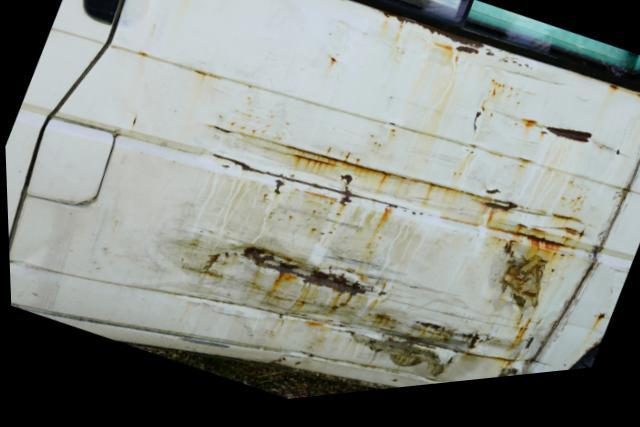rub: (144, 21, 605, 394)
